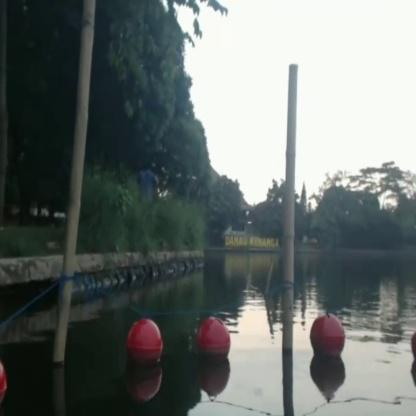red_buoy: (127, 314, 162, 370), (195, 319, 232, 368), (310, 312, 346, 362)
